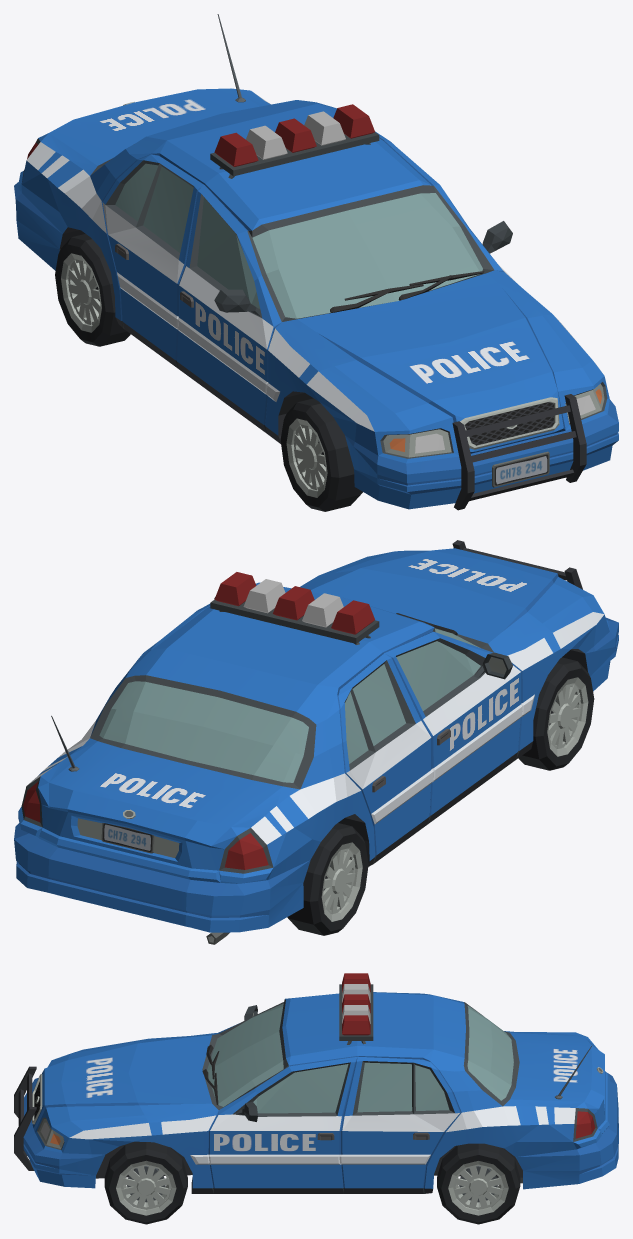
The model's file is city_police_car.glb.
3 views of the same model, one above another, from view 1: azimuth 30°, elevation 25°; view 2: azimuth 150°, elevation 25°; view 3: azimuth 270°, elevation 25° (orthographic). The views are drawn at different scales.
Visible parts, largest first — view 1: SM_Veh_Car_Police_01_PolygonCity_Texture_03_C_0, SM_Veh_Car_Police_Glass_PolygonCity_Glass_Veh_Mat_0, SM_Veh_Car_Police_Wheel_fr_PolygonCity_Mat_01_A_0, SM_Veh_Car_Police_Wheel_rr_PolygonCity_Mat_01_A_0, SM_Veh_Car_Police_Plates_PolygonCity_Mat_01_A_0; view 2: SM_Veh_Car_Police_01_PolygonCity_Texture_03_C_0, SM_Veh_Car_Police_Glass_PolygonCity_Glass_Veh_Mat_0, SM_Veh_Car_Police_Wheel_rr_PolygonCity_Mat_01_A_0, SM_Veh_Car_Police_Wheel_fr_PolygonCity_Mat_01_A_0, SM_Veh_Car_Police_Plates_PolygonCity_Mat_01_A_0; view 3: SM_Veh_Car_Police_01_PolygonCity_Texture_03_C_0, SM_Veh_Car_Police_Glass_PolygonCity_Glass_Veh_Mat_0, SM_Veh_Car_Police_Wheel_fl_PolygonCity_Mat_01_A_0, SM_Veh_Car_Police_Wheel_rl_PolygonCity_Mat_01_A_0.
Boxes of the visible parts, x1,y1,x2,y2 form: SM_Veh_Car_Police_01_PolygonCity_Texture_03_C_0: [14, 14, 618, 510]; SM_Veh_Car_Police_Glass_PolygonCity_Glass_Veh_Mat_0: [115, 163, 482, 318]; SM_Veh_Car_Police_Wheel_fr_PolygonCity_Mat_01_A_0: [280, 398, 362, 511]; SM_Veh_Car_Police_Wheel_rr_PolygonCity_Mat_01_A_0: [55, 234, 130, 346]; SM_Veh_Car_Police_Plates_PolygonCity_Mat_01_A_0: [492, 451, 549, 487]; SM_Veh_Car_Police_01_PolygonCity_Texture_03_C_0: [14, 540, 618, 944]; SM_Veh_Car_Police_Glass_PolygonCity_Glass_Veh_Mat_0: [99, 628, 480, 782]; SM_Veh_Car_Police_Wheel_rr_PolygonCity_Mat_01_A_0: [287, 823, 368, 935]; SM_Veh_Car_Police_Wheel_fr_PolygonCity_Mat_01_A_0: [518, 657, 594, 770]; SM_Veh_Car_Police_Plates_PolygonCity_Mat_01_A_0: [101, 823, 154, 853]; SM_Veh_Car_Police_01_PolygonCity_Texture_03_C_0: [14, 973, 618, 1193]; SM_Veh_Car_Police_Glass_PolygonCity_Glass_Veh_Mat_0: [207, 1003, 513, 1113]; SM_Veh_Car_Police_Wheel_fl_PolygonCity_Mat_01_A_0: [104, 1141, 187, 1224]; SM_Veh_Car_Police_Wheel_rl_PolygonCity_Mat_01_A_0: [437, 1143, 520, 1224].
Bounding box in the file's own units: 2.17 × 1.74 × 5.25.
3 materials, 2 textured.
